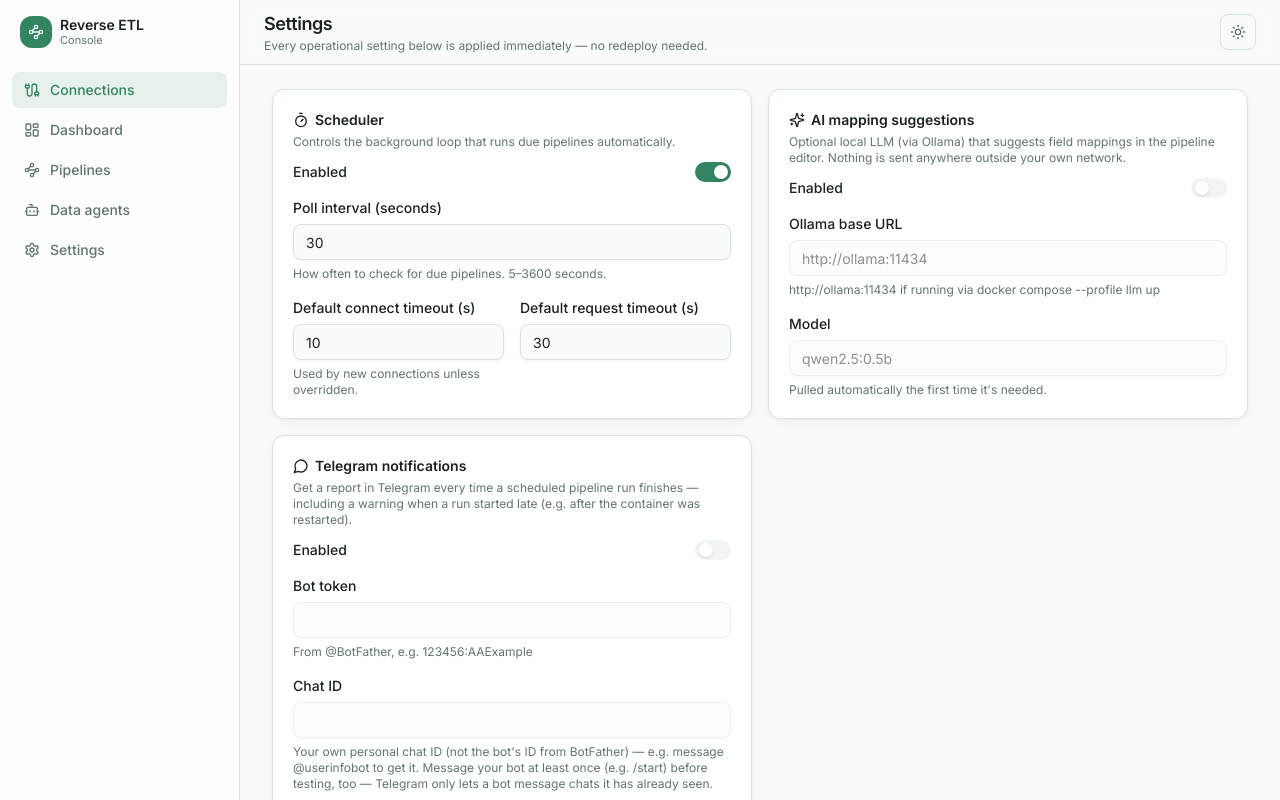
it: SettingsPage › enables the Telegram fields and a test-message button when the switch is on
Expected: the number field labelled "Poll interval (seconds)" is shown, left=293, top=224, right=731, bottom=260
Click the switch named "telegram notifications enabled": {"x": 713, "y": 550} left=695, top=540, right=731, bottom=560
(page scrolled)
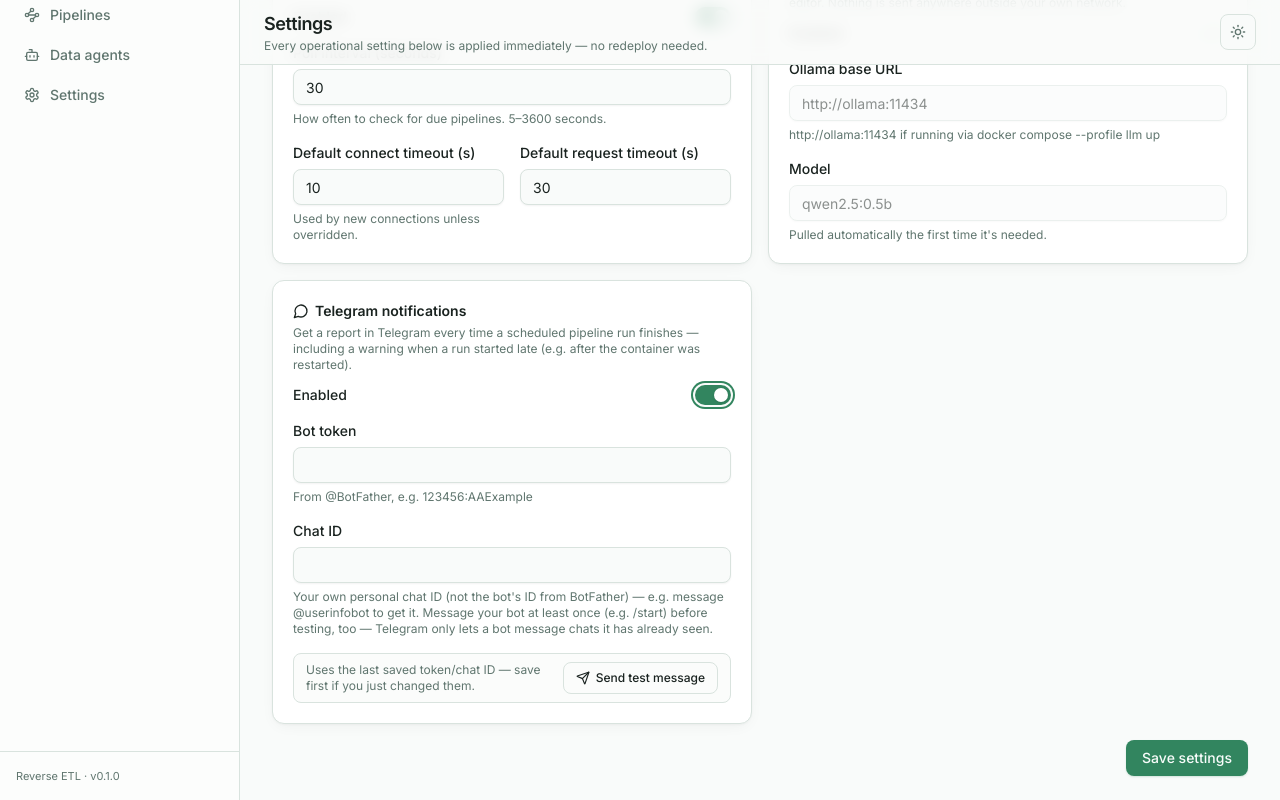
Expected: the password field labelled "Bot token" is enabled, left=293, top=447, right=731, bottom=483
Expected: the button "Send test message" is shown, left=563, top=662, right=718, bottom=694
